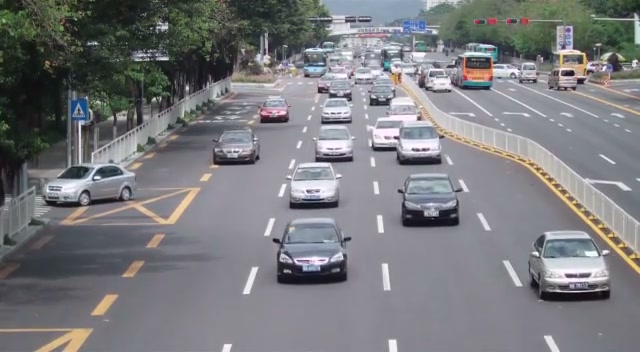bus: (457, 51, 494, 89)
car: (528, 230, 612, 301), (272, 217, 351, 284), (43, 163, 138, 207), (398, 172, 461, 227), (288, 162, 342, 208), (395, 121, 443, 165), (212, 129, 260, 165), (315, 125, 354, 162), (371, 117, 405, 151), (321, 98, 353, 124), (260, 96, 290, 123), (547, 68, 578, 91), (424, 69, 451, 92), (586, 61, 602, 74)
truck: (554, 49, 589, 84), (547, 68, 578, 91)
